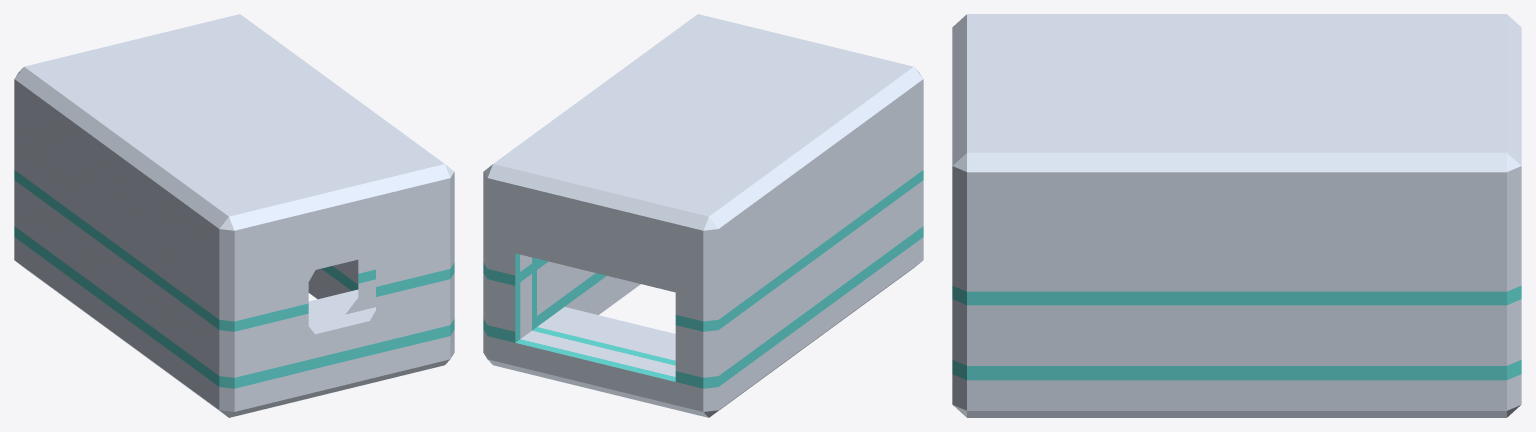
The model's file is bigBuilding.fbx.
The picture shows the model from 3 angles, left to right: view 1: azimuth 30°, elevation 25°; view 2: azimuth 150°, elevation 25°; view 3: azimuth 270°, elevation 25°; orthographic projection. The views are drawn at different scales.
Visible parts, largest first — view 1: bigBuilding; view 2: bigBuilding; view 3: bigBuilding.
Part boxes in pixels (x1,y1,x2,y2): bigBuilding: [14, 14, 454, 417]; bigBuilding: [483, 14, 923, 417]; bigBuilding: [952, 14, 1521, 417].
Bounding box in the file's own units: 44 × 36 × 70.
1 material, 1 textured.
